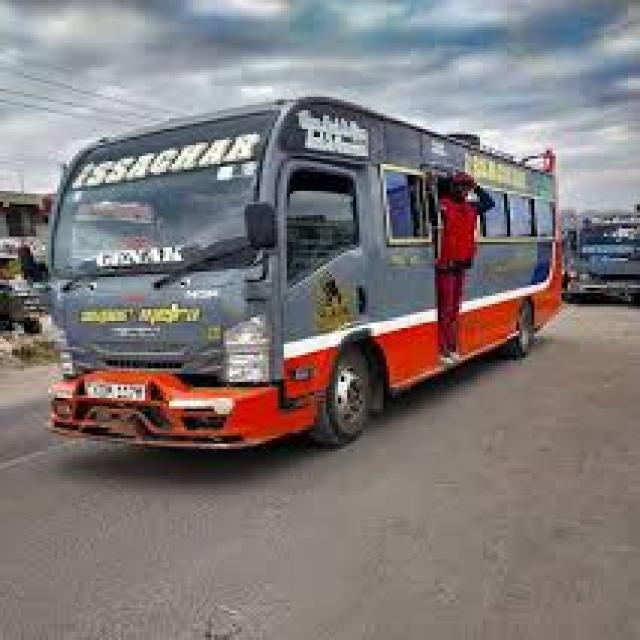bus: (9, 22, 604, 499)
